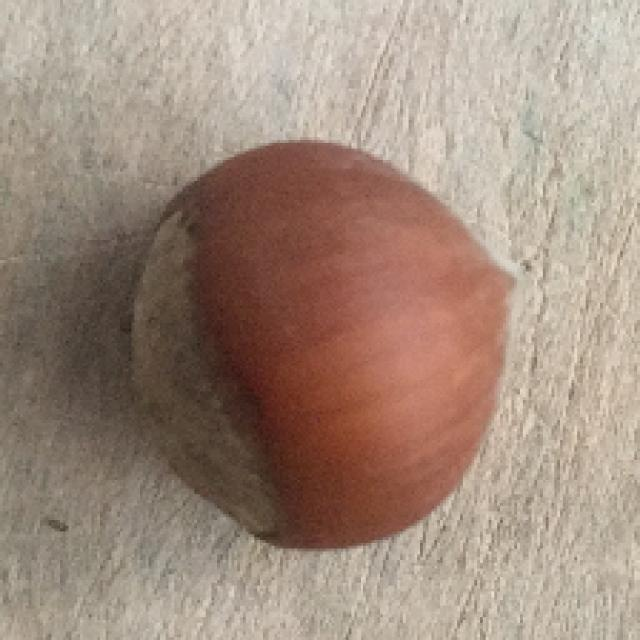qualityHazelnut: (129, 138, 524, 549)
